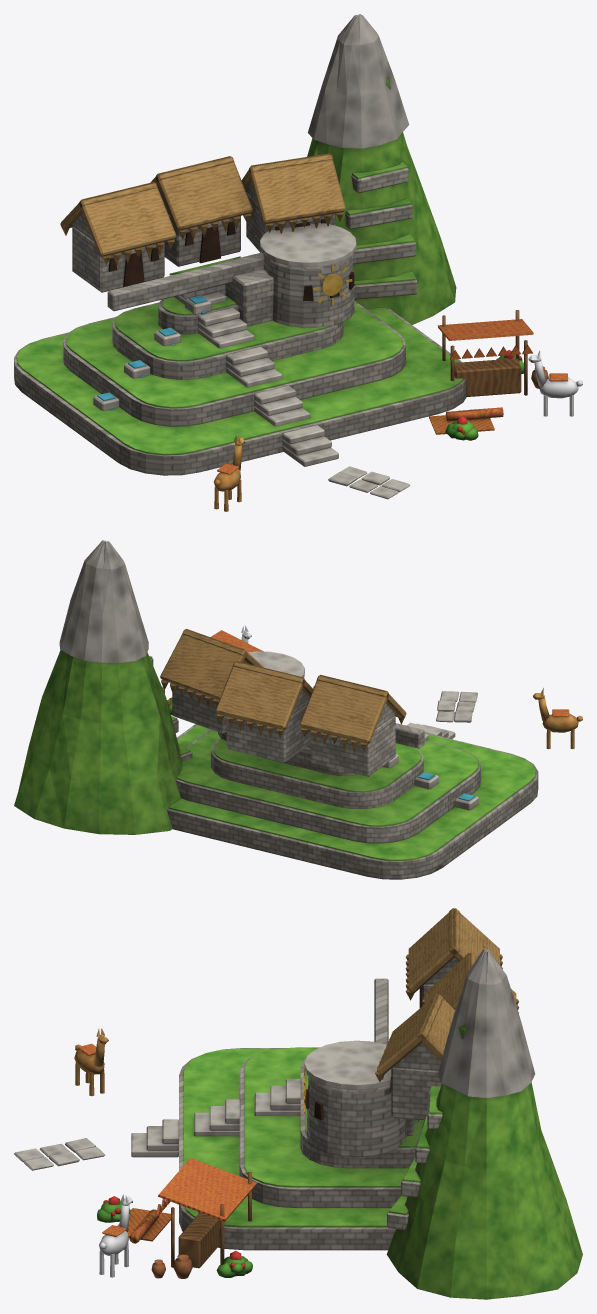
Rendered from MachuPicchu_Buildings.fbx.
3 renders of one model, top to bottom at view 1: azimuth 30°, elevation 25°; view 2: azimuth 150°, elevation 25°; view 3: azimuth 270°, elevation 25°, orthographic. The views are drawn at different scales.
Parts seen in each view (by area): view 1: S01_LowerTerraces, S03_HuaynaPicchu, S05_ThatchedRoofs, S06_SunTemple, S04_StoneHouses, S07_StoneStairs, S09_TextileStall, S02_UpperTerraces, S08_WaterChannel, S10_Llama_0, S10_Llama_1; view 2: S01_LowerTerraces, S03_HuaynaPicchu, S05_ThatchedRoofs, S04_StoneHouses, S07_StoneStairs, S10_Llama_1, S06_SunTemple, S08_WaterChannel, S02_UpperTerraces, S09_TextileStall; view 3: S03_HuaynaPicchu, S01_LowerTerraces, S06_SunTemple, S09_TextileStall, S05_ThatchedRoofs, S07_StoneStairs, S04_StoneHouses, S10_Llama_0, S10_Llama_1.
Boxes of the visible parts, left/top/right/bottom form: S01_LowerTerraces: left=14, top=300, right=466, bottom=475; S03_HuaynaPicchu: left=307, top=14, right=456, bottom=324; S05_ThatchedRoofs: left=60, top=153, right=345, bottom=265; S06_SunTemple: left=216, top=222, right=356, bottom=327; S04_StoneHouses: left=71, top=181, right=335, bottom=311; S07_StoneStairs: left=174, top=292, right=410, bottom=499; S09_TextileStall: left=429, top=310, right=548, bottom=440; S02_UpperTerraces: left=158, top=256, right=240, bottom=334; S08_WaterChannel: left=93, top=295, right=211, bottom=410; S10_Llama_0: left=528, top=350, right=582, bottom=416; S10_Llama_1: left=213, top=435, right=245, bottom=511; S01_LowerTerraces: left=167, top=724, right=538, bottom=879; S03_HuaynaPicchu: left=14, top=540, right=192, bottom=834; S05_ThatchedRoofs: left=160, top=629, right=406, bottom=751; S04_StoneHouses: left=172, top=661, right=424, bottom=776; S07_StoneStairs: left=300, top=691, right=477, bottom=753; S10_Llama_1: left=533, top=688, right=582, bottom=749; S06_SunTemple: left=218, top=651, right=304, bottom=740; S08_WaterChannel: left=382, top=754, right=478, bottom=810; S02_UpperTerraces: left=264, top=751, right=357, bottom=775; S09_TextileStall: left=167, top=630, right=314, bottom=715; S03_HuaynaPicchu: left=386, top=949, right=582, bottom=1299; S01_LowerTerraces: left=179, top=1047, right=423, bottom=1250; S06_SunTemple: left=304, top=1040, right=413, bottom=1157; S09_TextileStall: left=97, top=1158, right=256, bottom=1278; S05_ThatchedRoofs: left=375, top=908, right=518, bottom=1082; S07_StoneStairs: left=14, top=1079, right=301, bottom=1170; S04_StoneHouses: left=374, top=957, right=458, bottom=1119; S10_Llama_0: left=99, top=1194, right=132, bottom=1277; S10_Llama_1: left=74, top=1028, right=108, bottom=1096.
Bounding box in the file's own units: 13.53 × 8.33 × 14.06.
1 material, 1 textured.
